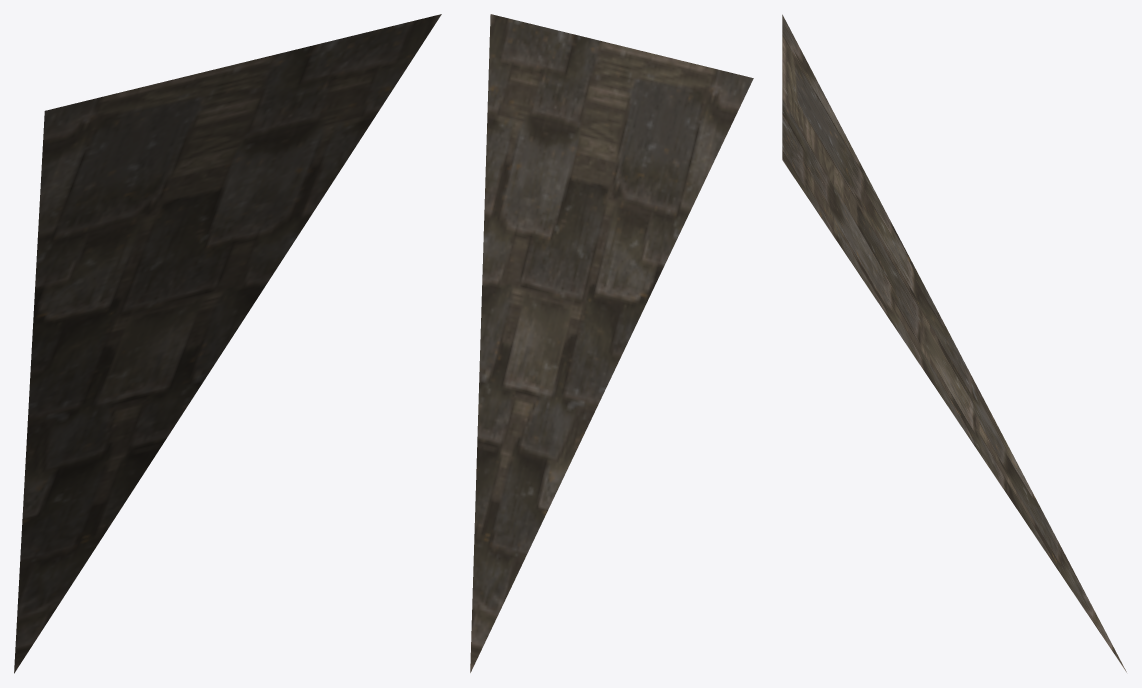
File: towerblock_roof3.glb
3 views of the same model, side by side, from view 1: azimuth 30°, elevation 25°; view 2: azimuth 150°, elevation 25°; view 3: azimuth 270°, elevation 25° (orthographic). The views are drawn at different scales.
Visible parts, largest first — view 1: towerblock_roof3; view 2: towerblock_roof3; view 3: towerblock_roof3.
Boxes of the visible parts, x1,y1,x2,y2 form: towerblock_roof3: (14, 14, 441, 673); towerblock_roof3: (470, 14, 753, 672); towerblock_roof3: (782, 14, 1126, 672).
Bounding box in the file's own units: 4 × 7.5 × 4.
Materials: 1 (1 with a texture image).
